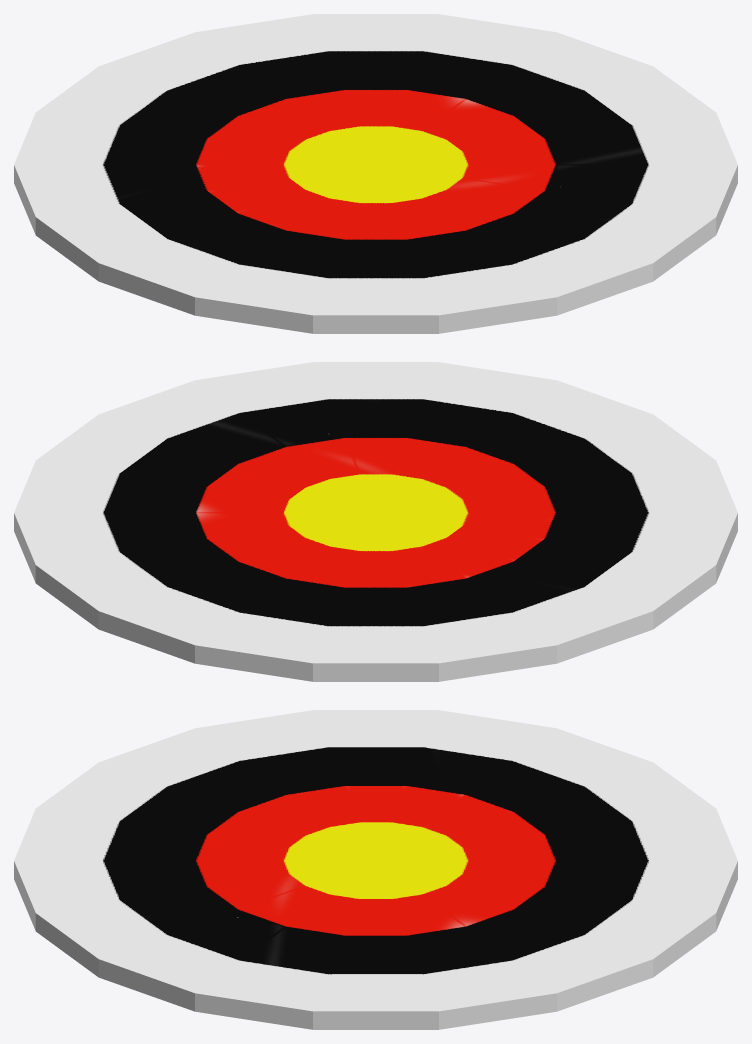
Rendered from target.fbx.
3 renders of one model, top to bottom at view 1: azimuth 30°, elevation 25°; view 2: azimuth 150°, elevation 25°; view 3: azimuth 270°, elevation 25°, orthographic.
Parts seen in each view (by area): view 1: Circle, Circle.002, Circle.001; view 2: Circle, Circle.002, Circle.001; view 3: Circle, Circle.002, Circle.001.
Boxes of the visible parts, x1,y1,x2,y2 form: Circle: (14,51,737,333); Circle.002: (14,14,737,315); Circle.001: (195,89,556,239); Circle: (14,399,737,681); Circle.002: (14,362,737,663); Circle.001: (195,437,556,587); Circle: (14,747,737,1029); Circle.002: (14,710,737,1011); Circle.001: (195,785,556,935).
Bounding box in the file's own units: 591 × 16.86 × 600.
